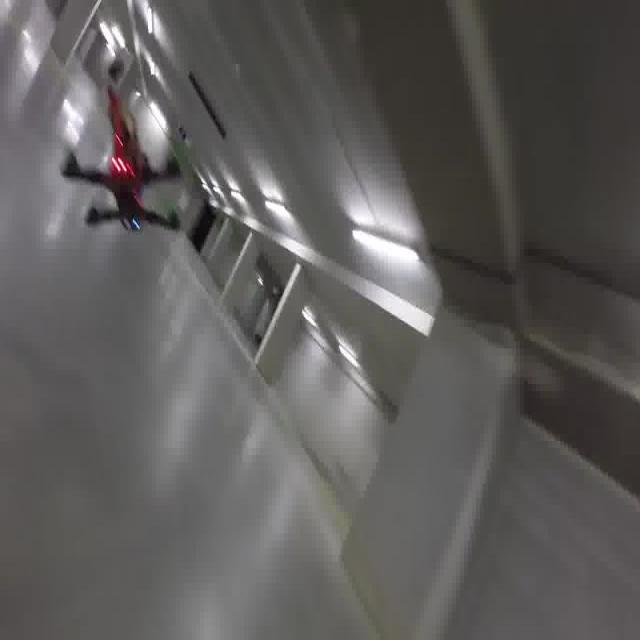drone: (62, 84, 182, 235)
